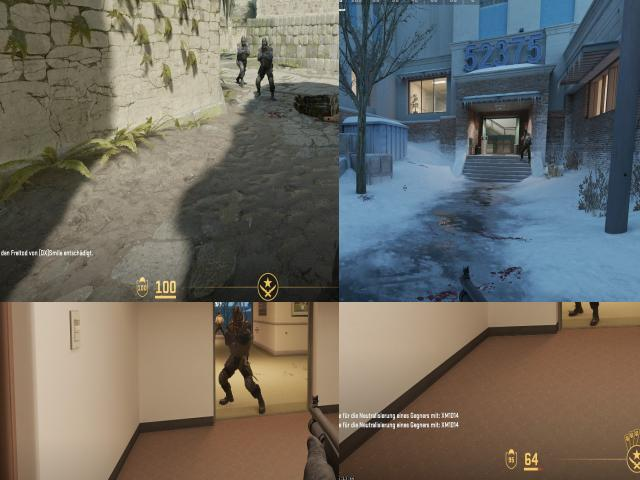CT: (230, 306, 248, 396), (255, 36, 275, 95), (236, 33, 251, 86)
CT-Head: (232, 307, 242, 325), (259, 37, 269, 50), (239, 35, 248, 46)
Dead: (294, 82, 339, 110), (300, 100, 339, 129)
T: (522, 128, 532, 158), (216, 312, 223, 337)
T-Head: (524, 129, 528, 134), (218, 313, 220, 315)
